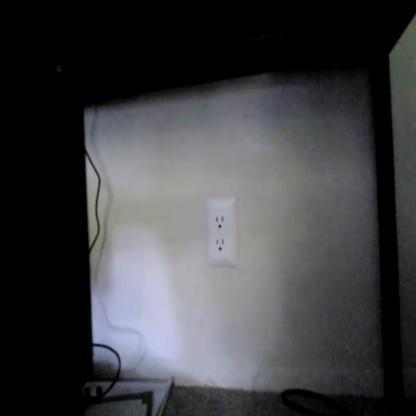OUTLET: (206, 195, 238, 268)
